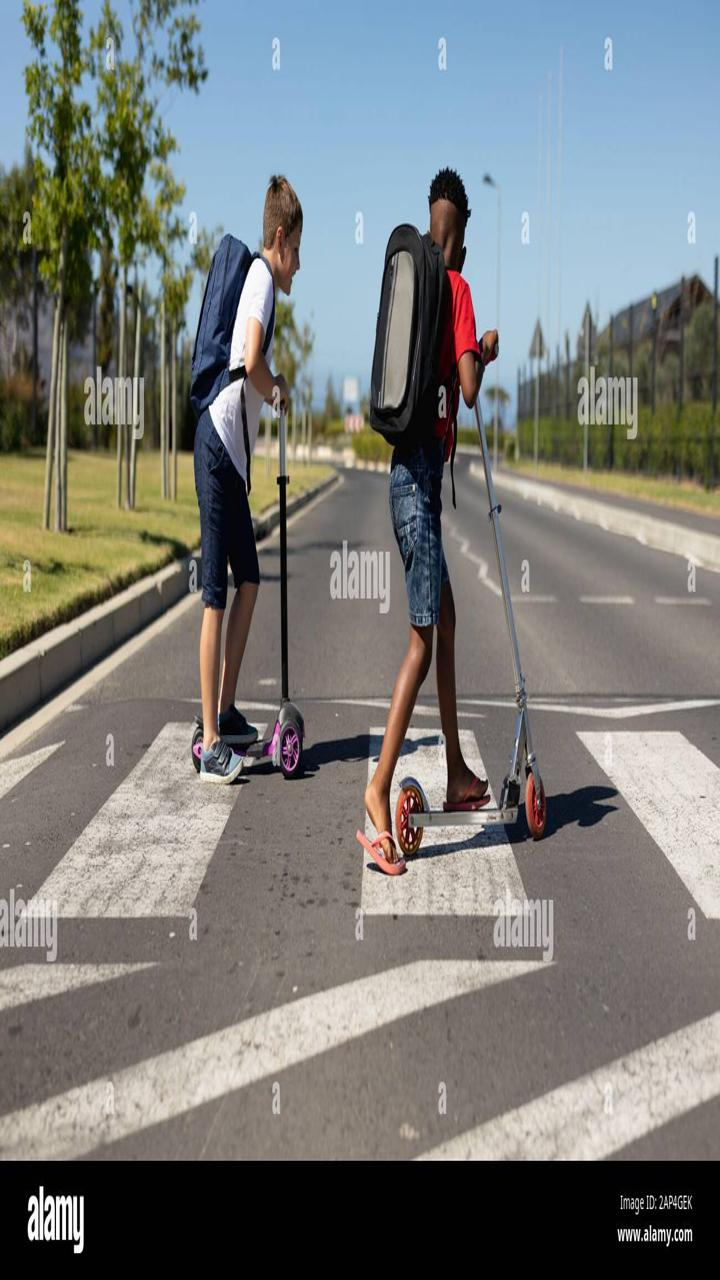cyclist: (170, 163, 314, 791), (360, 132, 480, 877)
scooter: (258, 365, 356, 815), (457, 380, 555, 830)
